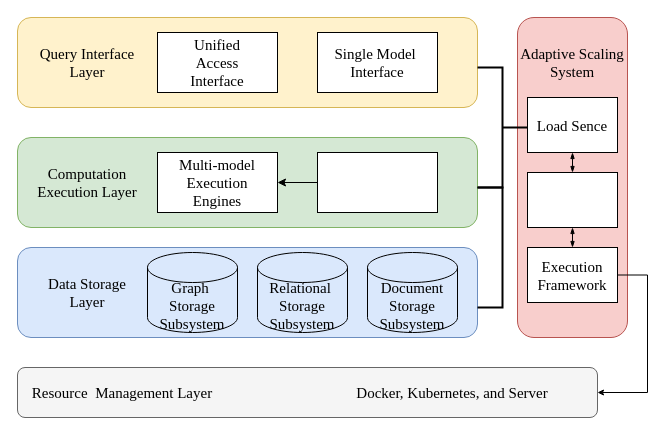
This 671x435 diagram has some shape labels left out. The centre of each missing label's shape, as x and y in pixels:
Adaptive Optimization: pixel 377 182
Scaling Strategy: pixel 572 200
